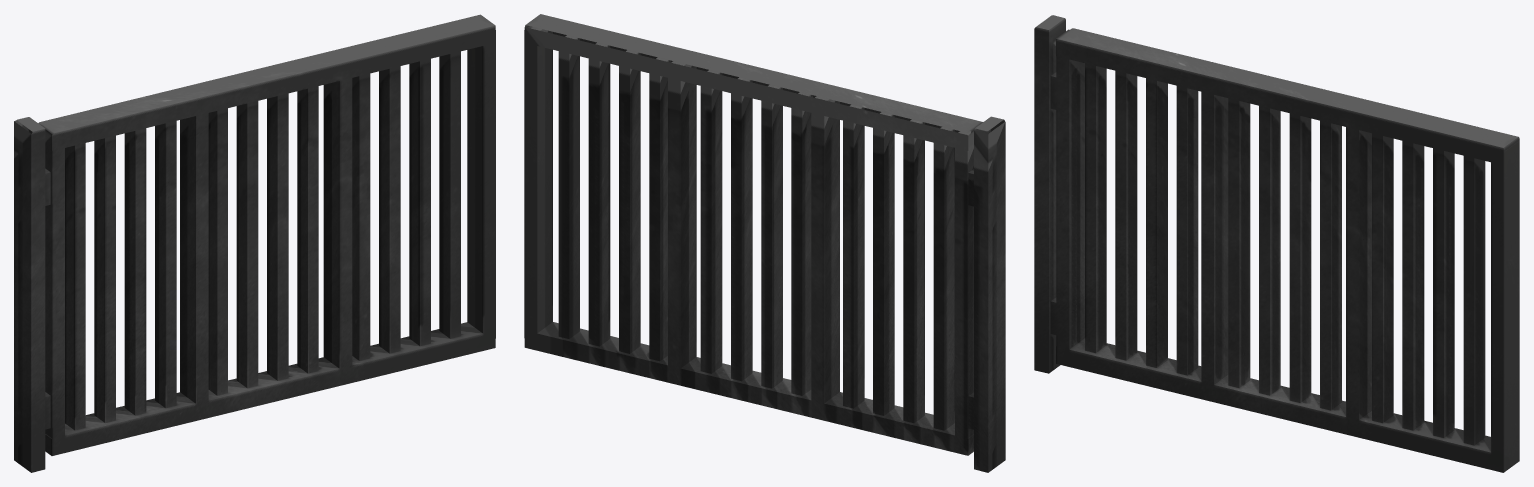
The model's file is gate_opened.fbx.
The picture shows the model from 3 angles, left to right: view 1: azimuth 30°, elevation 25°; view 2: azimuth 150°, elevation 25°; view 3: azimuth 330°, elevation 25°; orthographic projection.
Parts seen in each view (by area): view 1: Gate_opened.005; view 2: Gate_opened.005; view 3: Gate_opened.005.
Boxes of the visible parts, bbox=[...] form: Gate_opened.005: bbox=[14, 14, 495, 472]; Gate_opened.005: bbox=[524, 14, 1005, 472]; Gate_opened.005: bbox=[1034, 15, 1519, 472].
Bounding box in the file's own units: 296 × 207 × 19.11.
Materials: 1 (1 with a texture image).
